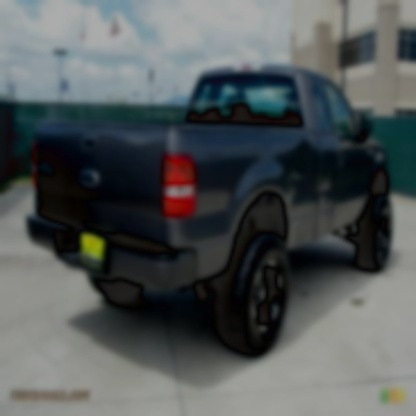Vehicle: (25, 64, 395, 357)
